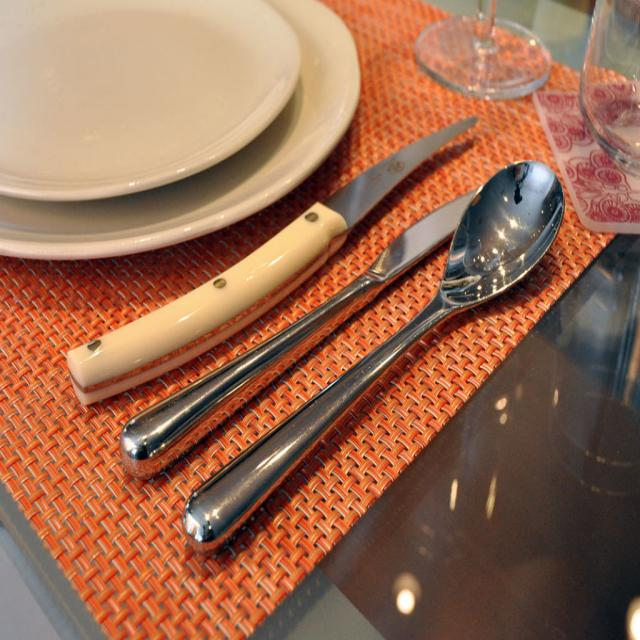non-organic waste: (0, 7, 372, 275)
